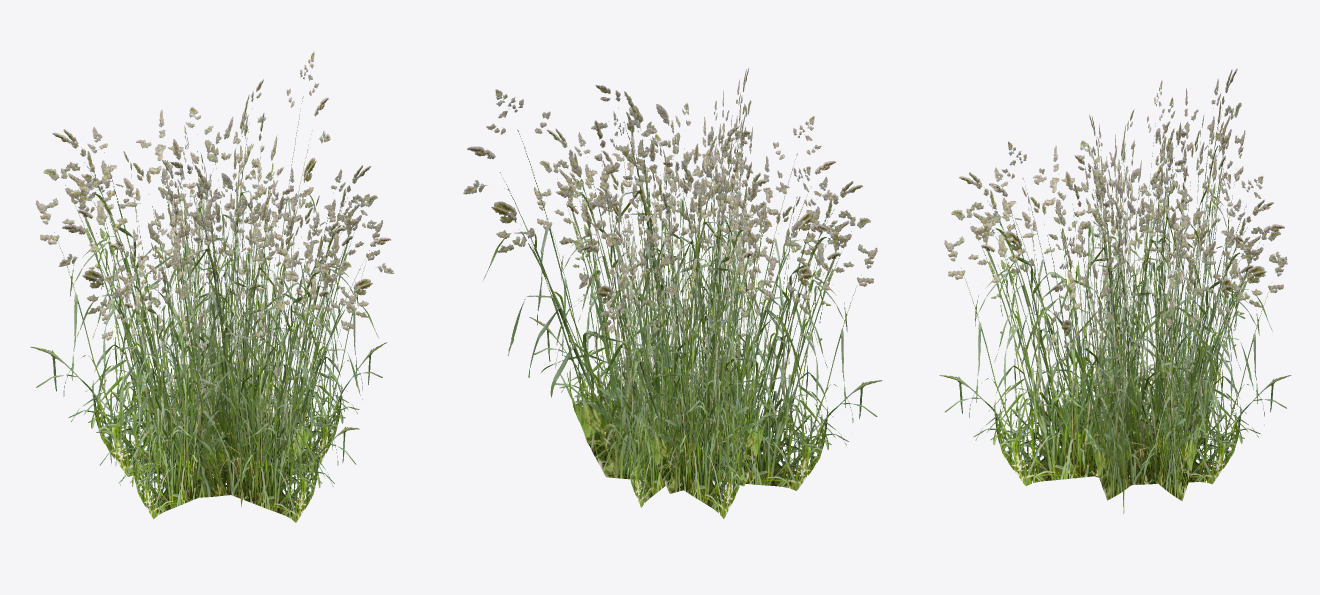
File: HighGrass_01.DAE
3 renders of one model, left to right at view 1: azimuth 30°, elevation 25°; view 2: azimuth 150°, elevation 25°; view 3: azimuth 270°, elevation 25°, orthographic. The views are drawn at different scales.
Parts seen in each view (by area): view 1: HighGrass300; view 2: HighGrass300; view 3: HighGrass300.
Boxes of the visible parts, box(x1,y1,x2,y2) form: HighGrass300: box(30, 51, 394, 522); HighGrass300: box(463, 68, 882, 518); HighGrass300: box(939, 68, 1291, 513).
Size of the model in its own units: 141 by 135 by 159.
